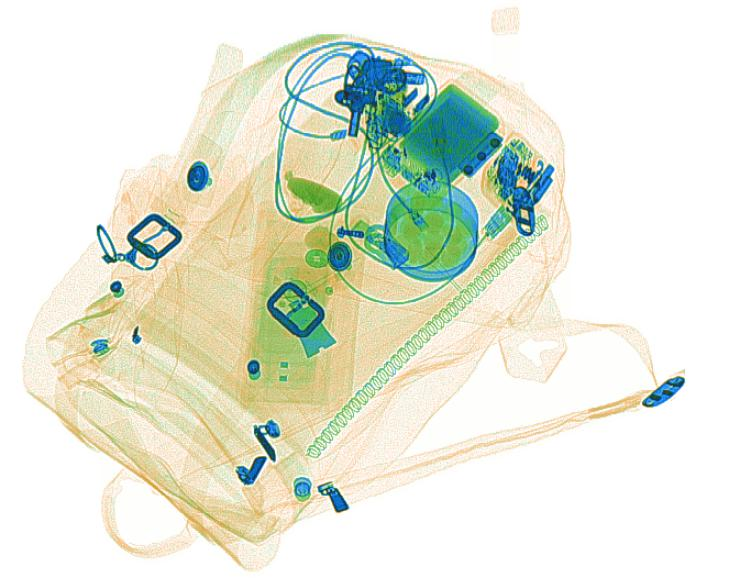USBFlashDisk: (346, 217, 410, 271)
